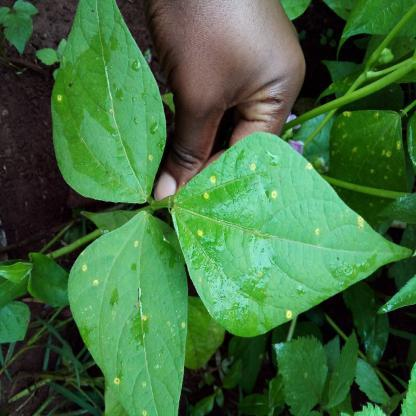Beans_Rust: (173, 132, 416, 336), (48, 0, 166, 209), (68, 211, 188, 416), (305, 109, 416, 224)
